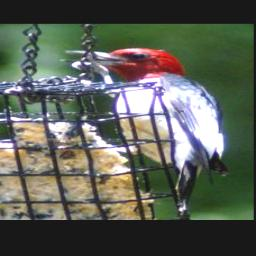Woodpecker: (56, 46, 230, 219)
